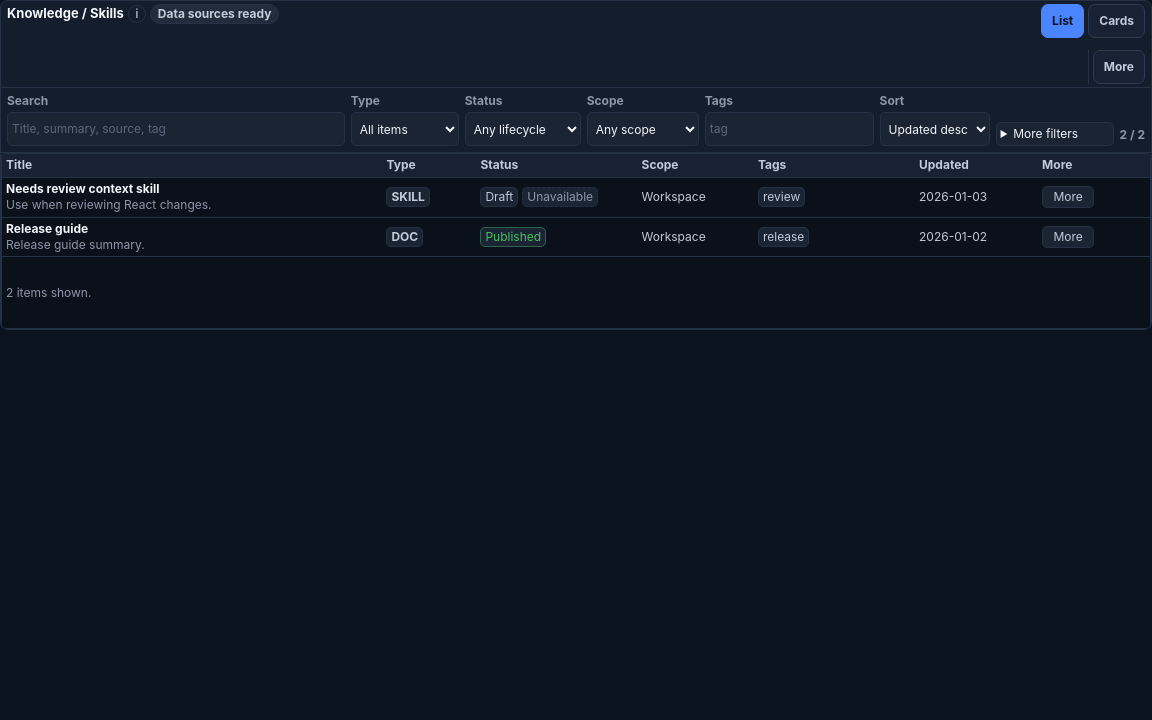
it: KnowledgeV2 Use as Context popup › shows unavailable picker items as disabled with a reason
Click the cell "Release guide Release guide summary." at (47, 228), box [2,218,382,256]
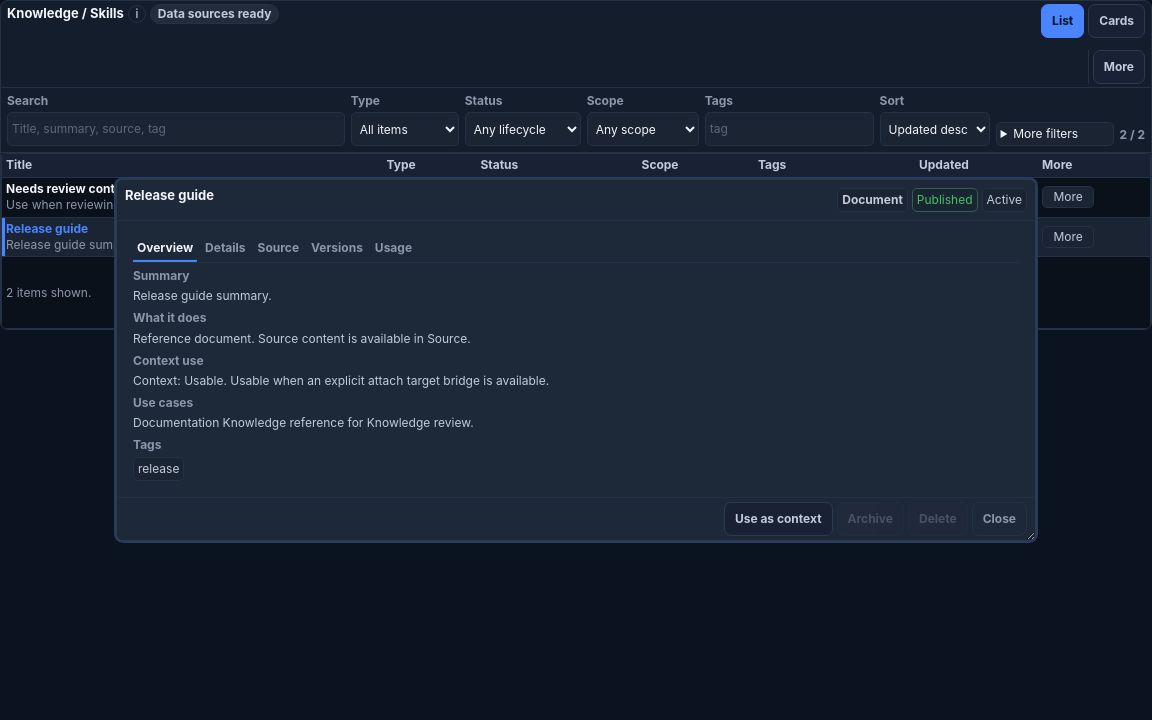
Expected: the button "Use as context" is shown
Click the button "Use as context" at (778, 519), box [724,502,832,536]
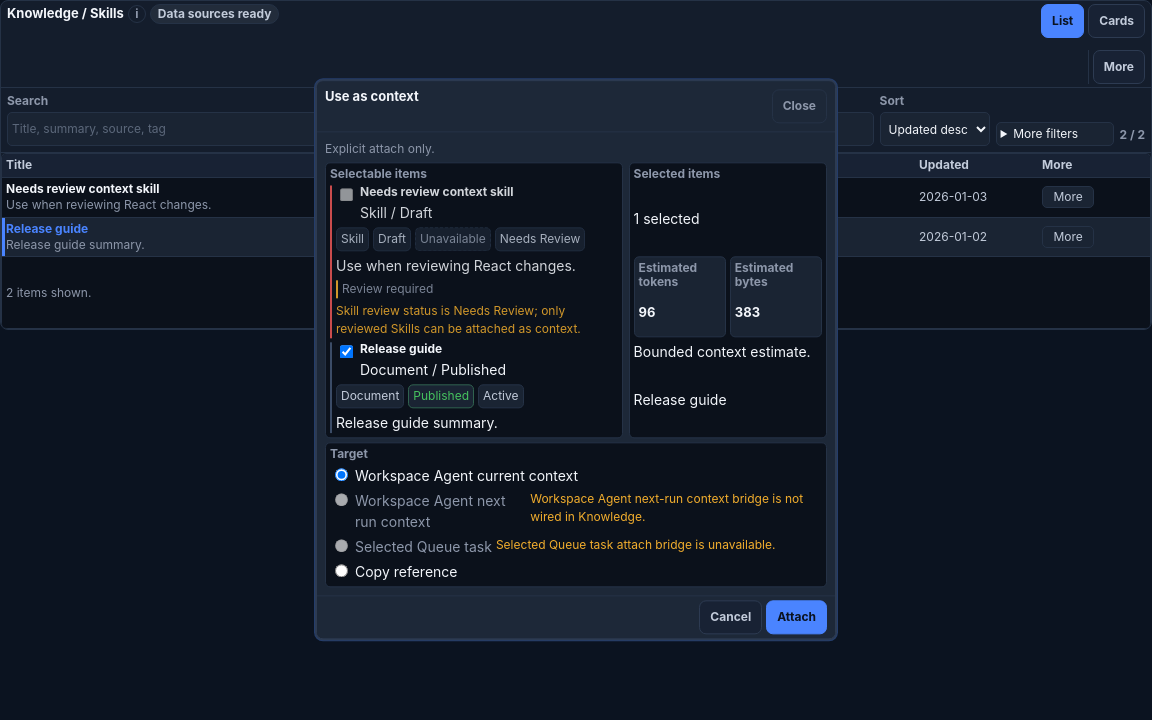
Expected: the checkbox labelled "Needs review context skill Skill / Draft" is disabled, [340,189,353,202]
Expected: the dialog shows "Skill review status is Needs Review; only reviewed Skills can be attached as context.", [336,304,581,336]
